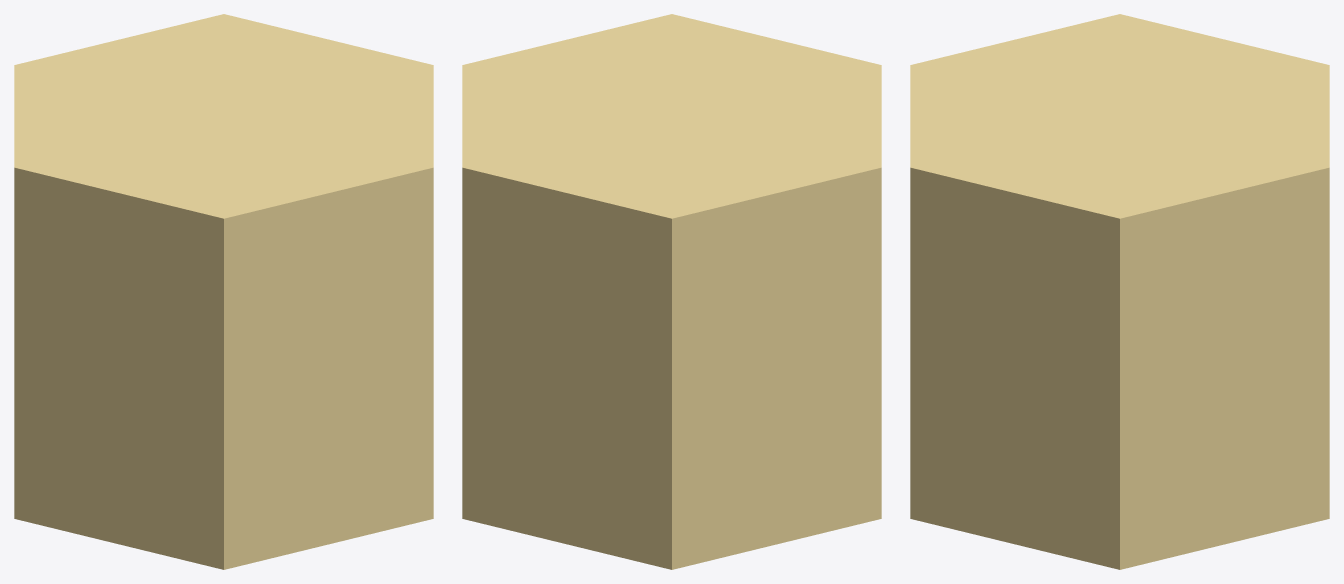
File: heliodor.glb
3 views of the same model, side by side, from view 1: azimuth 30°, elevation 25°; view 2: azimuth 150°, elevation 25°; view 3: azimuth 270°, elevation 25° (orthographic).
Visible parts, largest first — view 1: heliodor; view 2: heliodor; view 3: heliodor.
Part boxes in pixels (box(x1,y1,x2,y2)): heliodor: box(14, 14, 433, 569); heliodor: box(462, 14, 881, 569); heliodor: box(910, 14, 1329, 569).
Size of the model in its own units: 0.25 by 0.2 by 0.2165.
